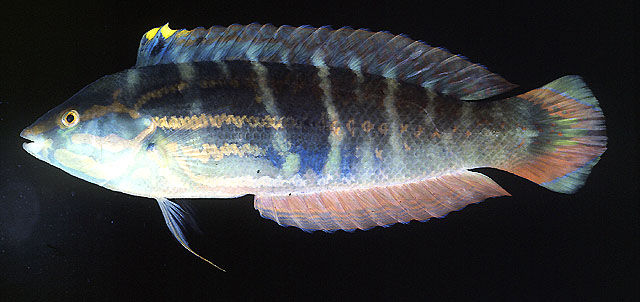fish: (20, 22, 608, 273)
